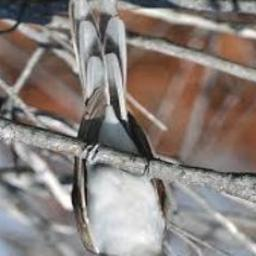Cuckoo: (70, 0, 190, 256)
